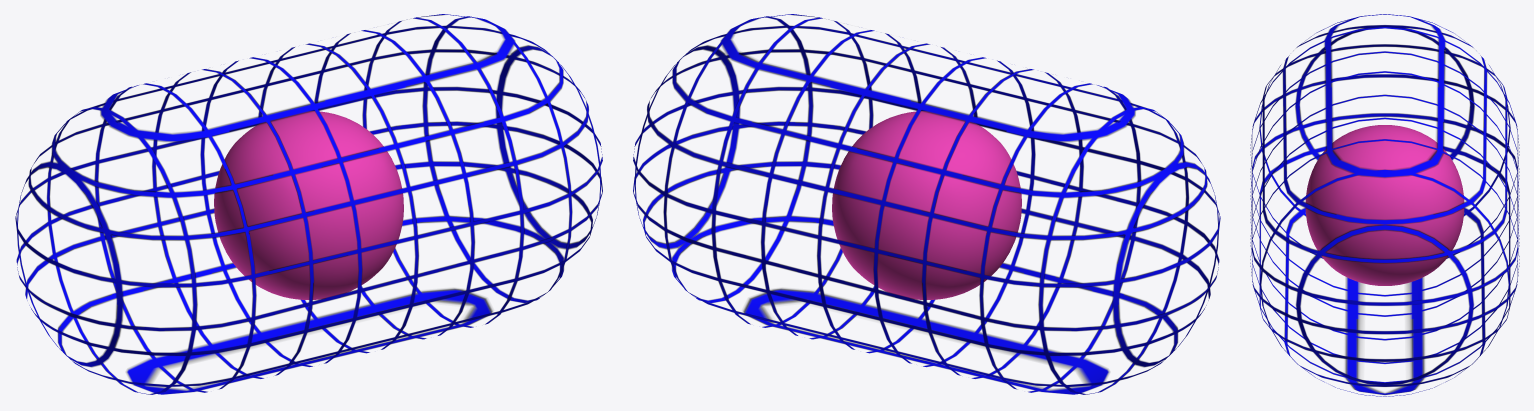
The model's file is block_clear.glb.
3 views of the same model, side by side, from view 1: azimuth 30°, elevation 25°; view 2: azimuth 150°, elevation 25°; view 3: azimuth 270°, elevation 25° (orthographic). The views are drawn at different scales.
Visible parts, largest first — view 1: Sphere, Cube; view 2: Sphere, Cube; view 3: Sphere, Cube.
Boxes of the visible parts, <box> form: Sphere: <box>15,14,602,394</box>; Cube: <box>214,111,403,299</box>; Sphere: <box>633,14,1220,394</box>; Cube: <box>832,111,1021,299</box>; Sphere: <box>1250,14,1519,396</box>; Cube: <box>1305,125,1464,285</box>.
Size of the model in its own units: 2 by 1 by 1.
Materials: 2 (1 with a texture image).
